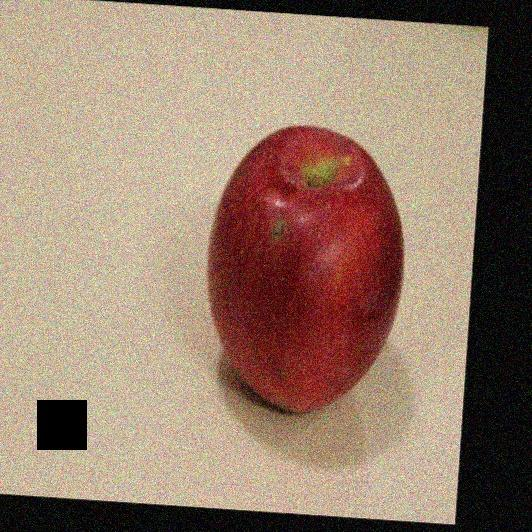red apple: (204, 124, 403, 415)
